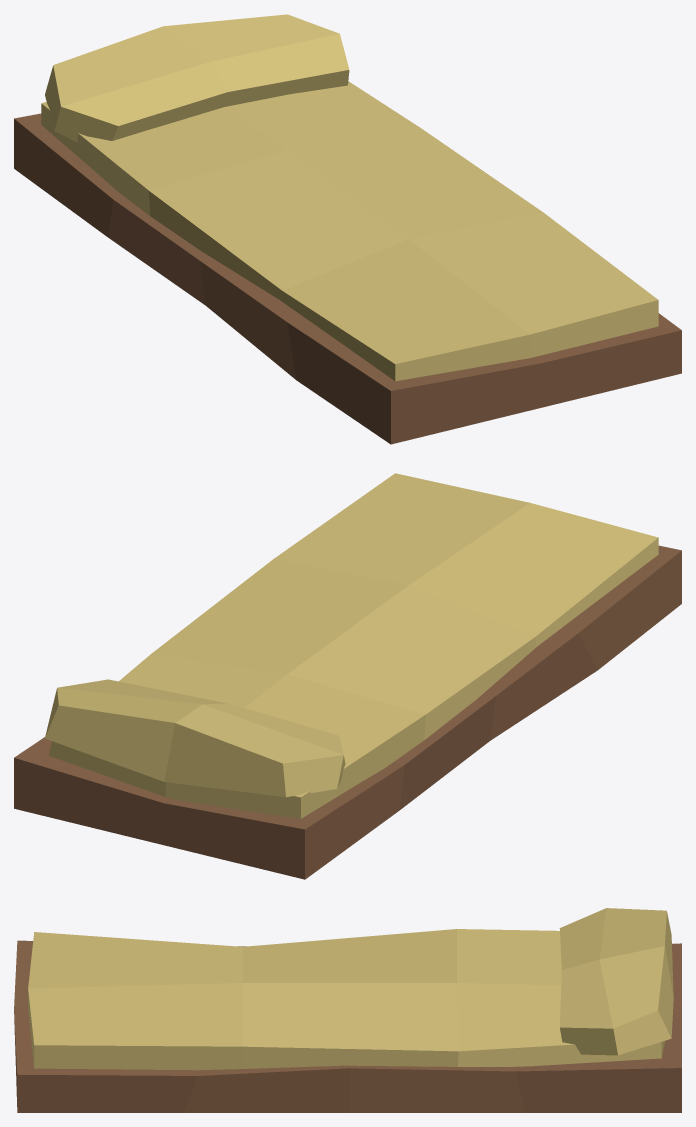
The model's file is peasant_bed.glb.
3 views of the same model, one above another, from view 1: azimuth 30°, elevation 25°; view 2: azimuth 150°, elevation 25°; view 3: azimuth 270°, elevation 25° (orthographic). The views are drawn at different scales.
Parts seen in each view (by area): view 1: Mesh; view 2: Mesh; view 3: Mesh.
Boxes of the visible parts, <box> form: Mesh: <box>14,14,681,444</box>; Mesh: <box>14,473,681,879</box>; Mesh: <box>14,908,681,1112</box>.
Bounding box in the file's own units: 1.14 × 0.421 × 2.5.
